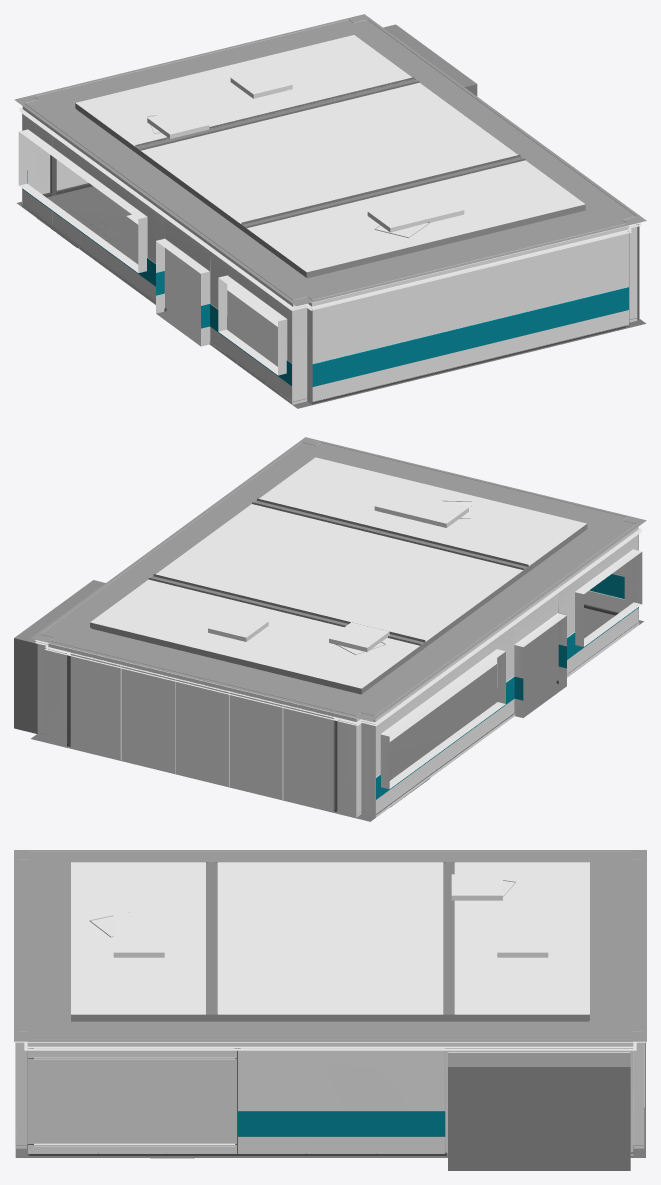
3 renders of one model, top to bottom at view 1: azimuth 30°, elevation 25°; view 2: azimuth 150°, elevation 25°; view 3: azimuth 270°, elevation 25°, orthographic. The views are drawn at different scales.
Parts seen in each view (by area): view 1: SM_H_Building_FutureTech_HLight_01_InterWall_03; view 2: SM_H_Building_FutureTech_HLight_01_InterWall_03; view 3: SM_H_Building_FutureTech_HLight_01_InterWall_03.
Boxes of the visible parts, left/top/right/bottom form: SM_H_Building_FutureTech_HLight_01_InterWall_03: left=14, top=14, right=646, bottom=408; SM_H_Building_FutureTech_HLight_01_InterWall_03: left=14, top=437, right=646, bottom=821; SM_H_Building_FutureTech_HLight_01_InterWall_03: left=14, top=850, right=646, bottom=1170.
Bounding box in the file's own units: 650 × 507 × 148.
